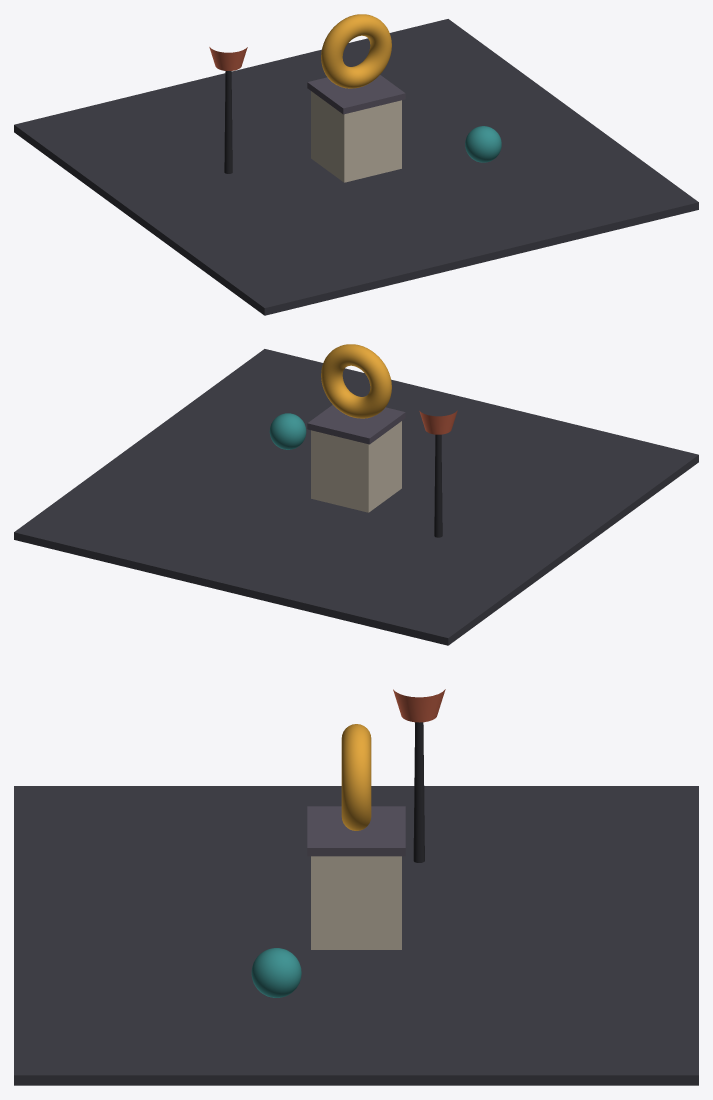
3 renders of one model, top to bottom at view 1: azimuth 30°, elevation 25°; view 2: azimuth 150°, elevation 25°; view 3: azimuth 270°, elevation 25°, orthographic. The views are drawn at different scales.
Visible parts, largest first — view 1: floor, pedestal, sculpture, orb, lampPost, lampShade; view 2: floor, pedestal, sculpture, orb, lampPost, lampShade; view 3: floor, pedestal, sculpture, orb, lampPost, lampShade.
Part boxes in pixels (left/top/right/bottom): floor: left=14, top=19, right=698, bottom=315; pedestal: left=307, top=75, right=405, bottom=182; sculpture: left=321, top=14, right=391, bottom=88; orb: left=465, top=126, right=501, bottom=162; lampPost: left=224, top=71, right=232, bottom=173; lampShade: left=209, top=47, right=247, bottom=70; floor: left=14, top=349, right=698, bottom=645; pedestal: left=307, top=405, right=405, bottom=512; sculpture: left=321, top=344, right=391, bottom=418; orb: left=269, top=413, right=306, bottom=449; lampPost: left=434, top=434, right=442, bottom=537; lampShade: left=419, top=410, right=457, bottom=434; floor: left=14, top=786, right=698, bottom=1085; pedestal: left=307, top=806, right=405, bottom=949; sculpture: left=341, top=724, right=371, bottom=830; orb: left=251, top=948, right=301, bottom=997; lampPost: left=413, top=722, right=424, bottom=862; lampShade: left=393, top=689, right=445, bottom=722.
Size of the model in its own units: 6 by 2.05 by 6.
